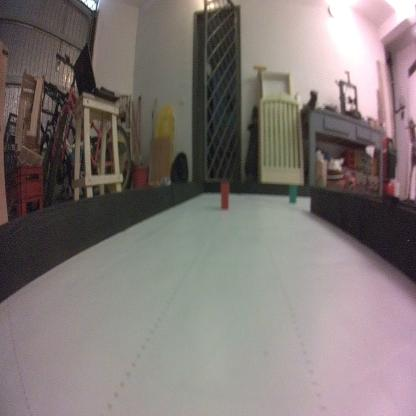green: (288, 182, 298, 205)
red: (220, 180, 230, 210)
